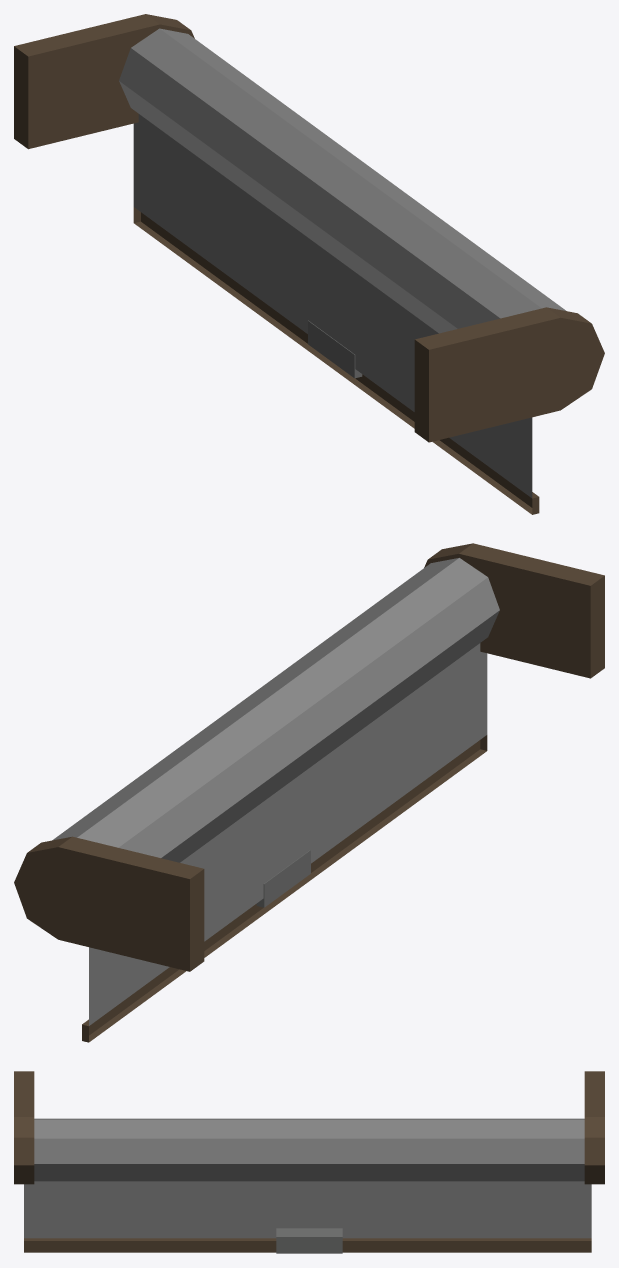
The model's file is SM_rollerBlind_01.glb.
The picture shows the model from 3 angles, top to bottom: view 1: azimuth 30°, elevation 25°; view 2: azimuth 150°, elevation 25°; view 3: azimuth 270°, elevation 25°; orthographic projection. The views are drawn at different scales.
Parts seen in each view (by area): view 1: SM_rollerBlind_01; view 2: SM_rollerBlind_01; view 3: SM_rollerBlind_01.
Part boxes in pixels (x1,y1,x2,y2): SM_rollerBlind_01: [14, 14, 604, 514]; SM_rollerBlind_01: [14, 543, 604, 1042]; SM_rollerBlind_01: [14, 1071, 604, 1253].
Size of the model in its own units: 0.304 by 0.3255 by 1.24.
Materials: 2 (1 with a texture image).
